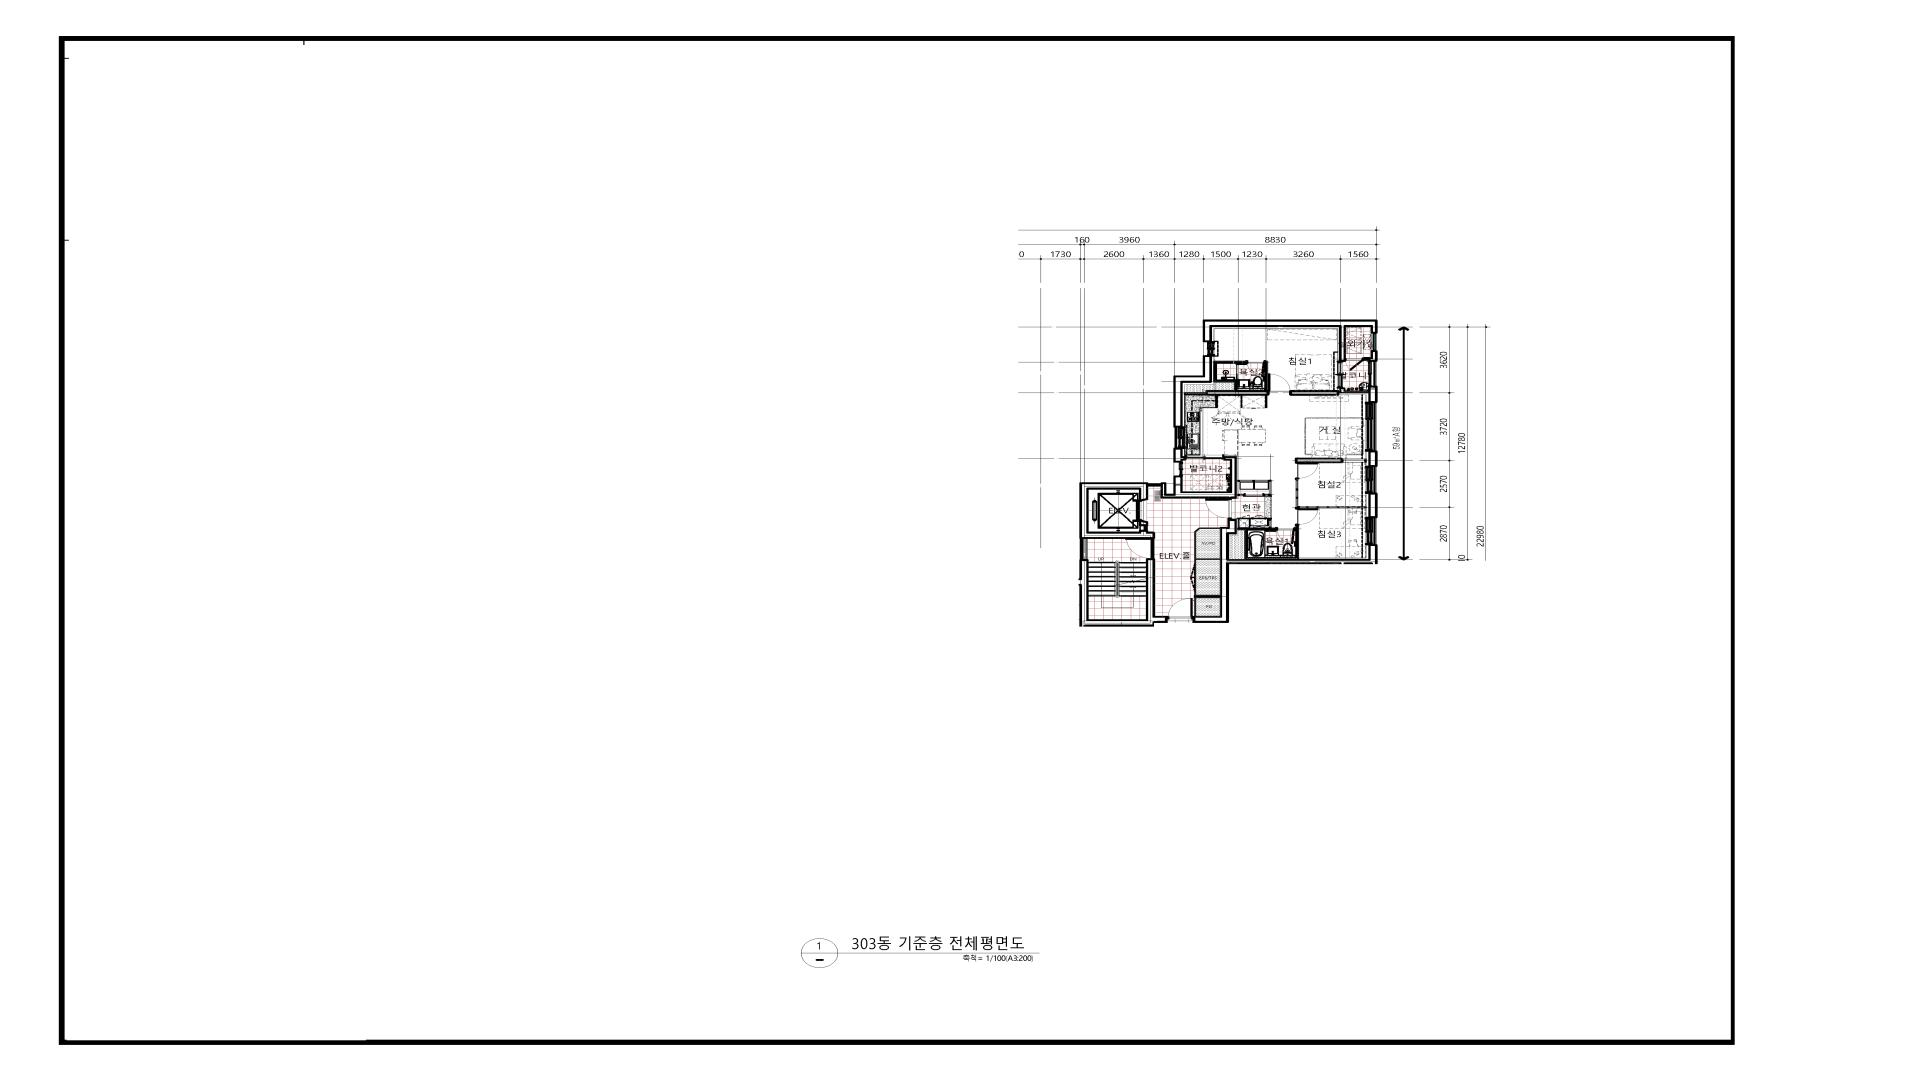door: (1205, 498, 1236, 518), (1125, 539, 1154, 558), (1168, 599, 1192, 621), (1269, 373, 1290, 393), (1295, 463, 1319, 479), (1295, 509, 1317, 525), (1247, 360, 1265, 377), (1278, 527, 1295, 543), (1346, 359, 1362, 371), (1191, 563, 1195, 591)
wall: (1192, 518, 1378, 622), (1203, 319, 1378, 361), (1080, 558, 1168, 626), (1080, 483, 1155, 539), (1184, 360, 1269, 409), (1160, 456, 1237, 498), (1174, 356, 1212, 427), (1237, 518, 1299, 559), (1195, 527, 1220, 616), (1295, 479, 1367, 509), (1290, 388, 1369, 396), (1237, 480, 1271, 497), (1295, 459, 1367, 463), (1369, 492, 1378, 518), (1174, 448, 1187, 463), (1369, 385, 1378, 402), (1369, 451, 1378, 467), (1369, 349, 1378, 361), (1149, 483, 1160, 487), (1362, 357, 1369, 361), (1237, 493, 1246, 496)
window: (1365, 402, 1377, 451), (1365, 518, 1377, 545), (1366, 467, 1377, 492), (1174, 427, 1185, 448), (1187, 455, 1222, 460), (1369, 361, 1377, 385), (1336, 361, 1342, 388), (1204, 342, 1216, 356), (1080, 539, 1088, 559), (1174, 463, 1183, 476), (1371, 334, 1377, 349)
